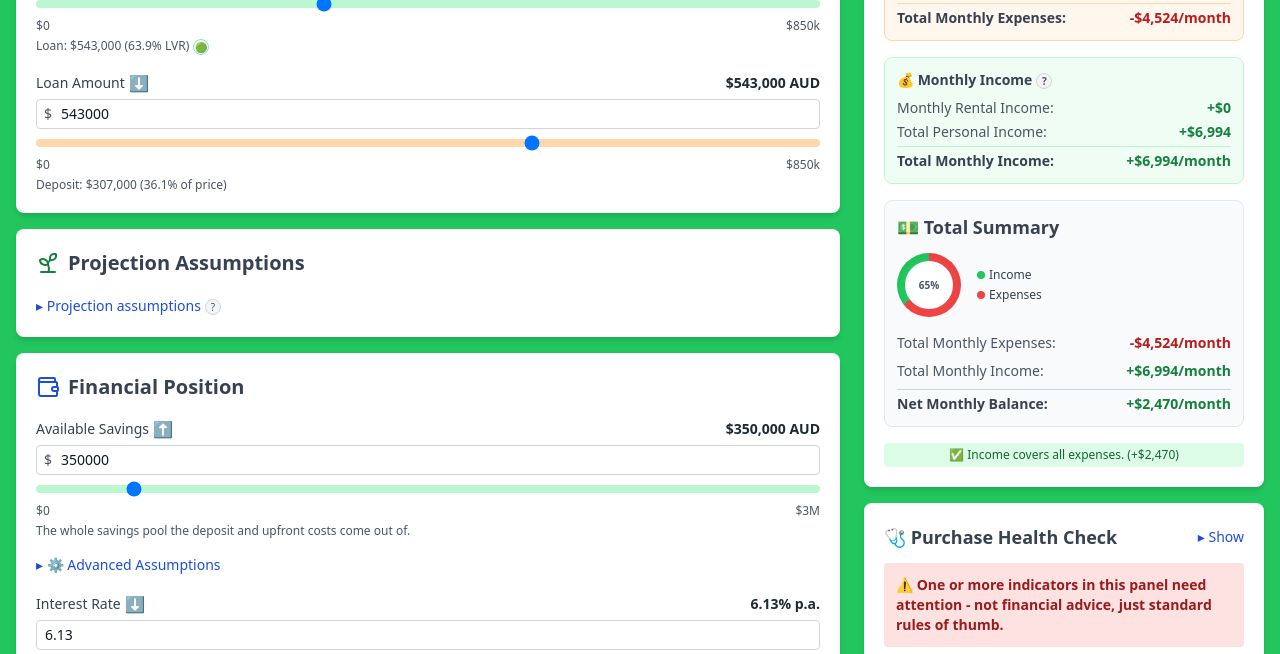
Projection Assumptions card (TODO-141) › labels the projection as a flat baseline only once every simulation-affecting assumption is 0
(page scrolled)
Click the button "▸ Projection assumptions": {"x": 118, "y": 306} [36,296,201,316]
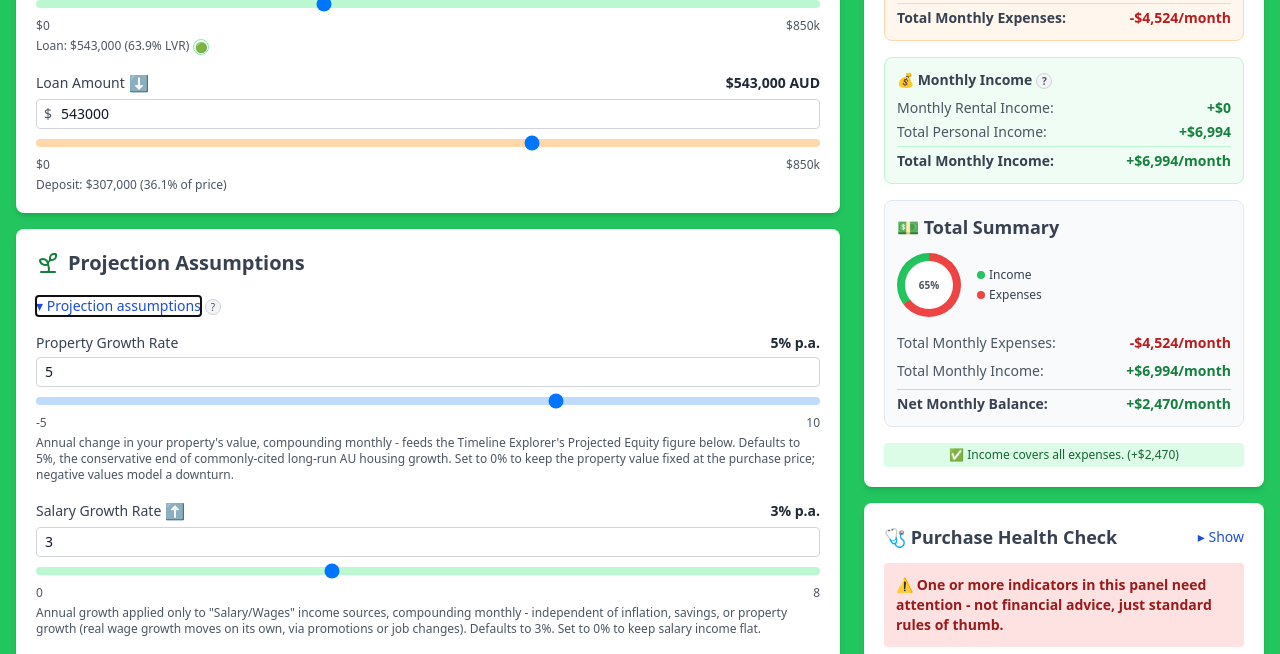
Replace the text in the number field labelled "Salary Growth Rate" with "0": {"x": 428, "y": 542} [36,527,820,557]
(page scrolled)
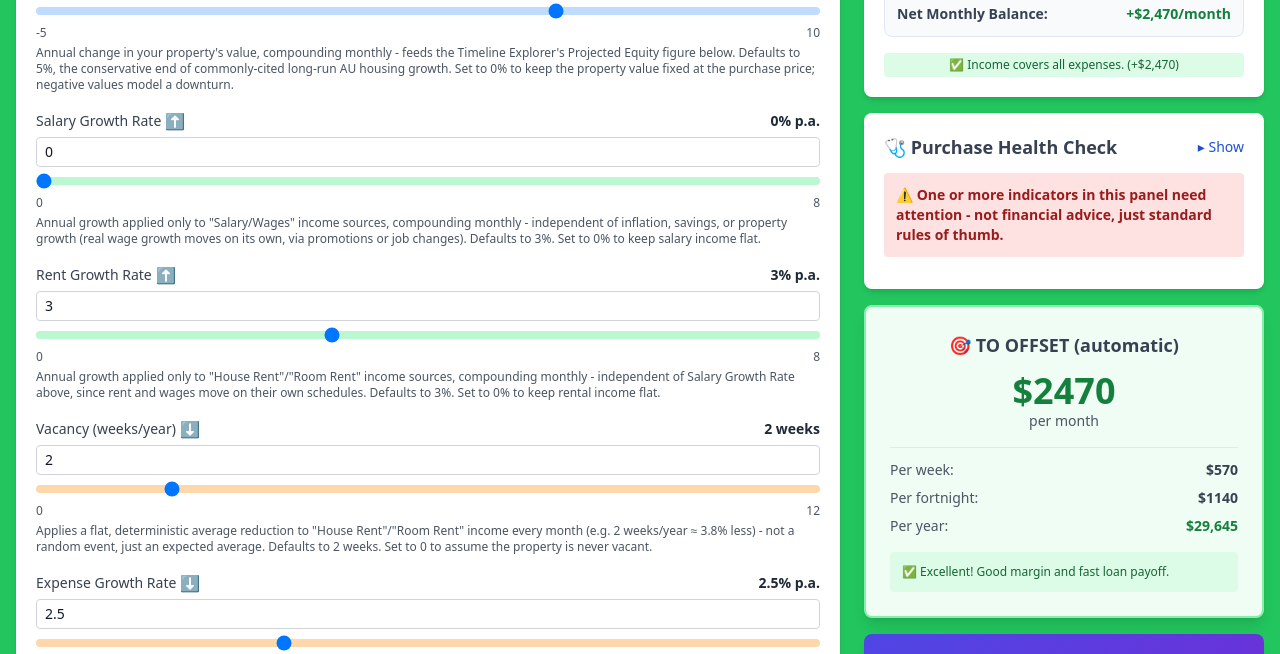
Replace the text in the number field labelled "Rent Growth Rate" with "0": {"x": 428, "y": 306} [36,291,820,321]
Replace the text in the number field labelled "Expense Growth Rate" with "0": {"x": 428, "y": 614} [36,599,820,629]
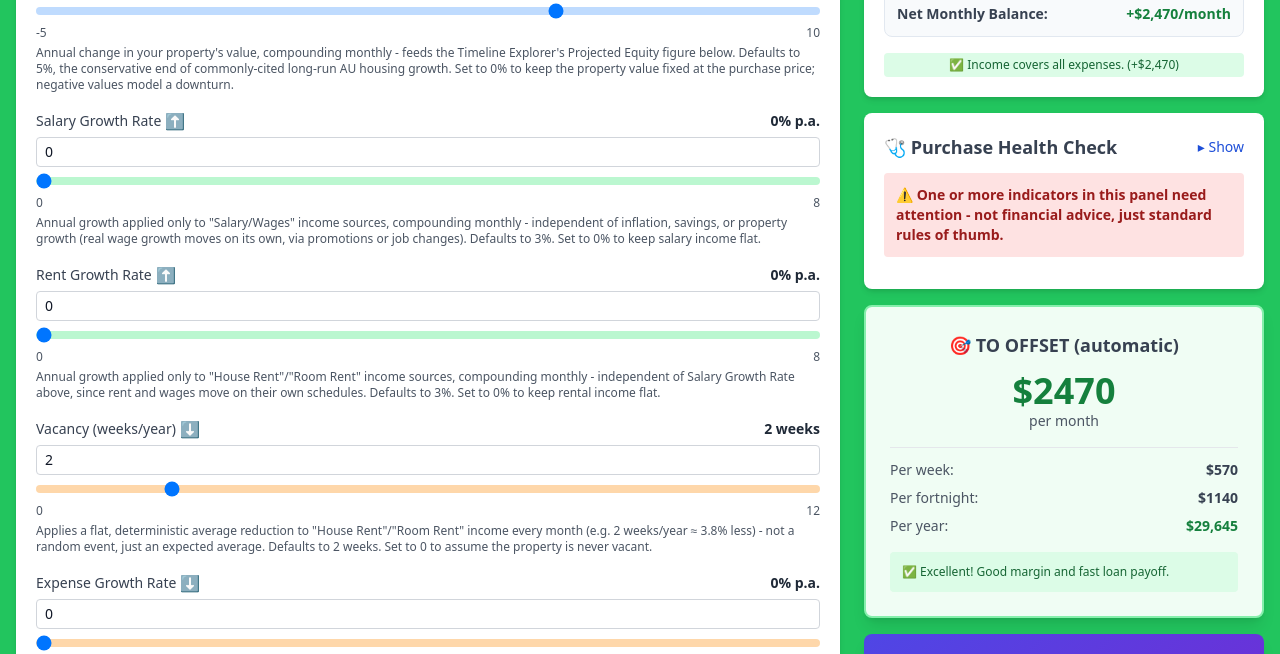
Replace the text in the number field labelled "Vacancy (weeks/year)" with "0": {"x": 428, "y": 460} [36,445,820,475]
(page scrolled)
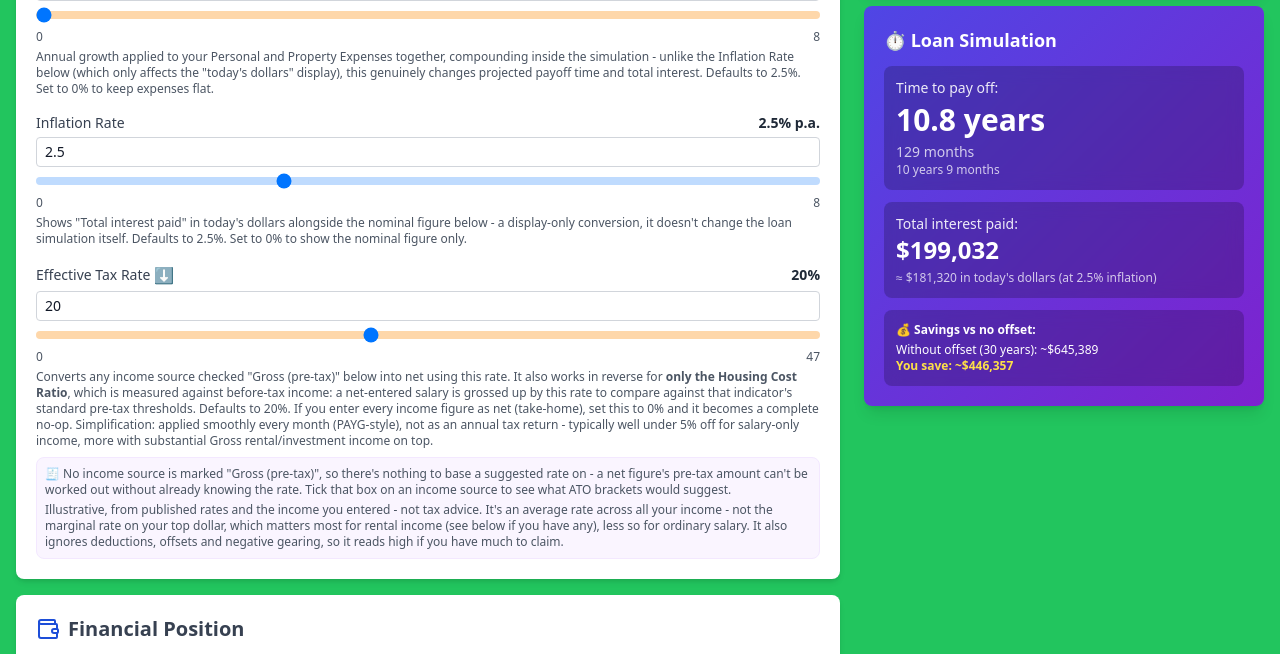
Replace the text in the number field labelled "Effective Tax Rate" with "0": {"x": 428, "y": 306} [36,291,820,321]
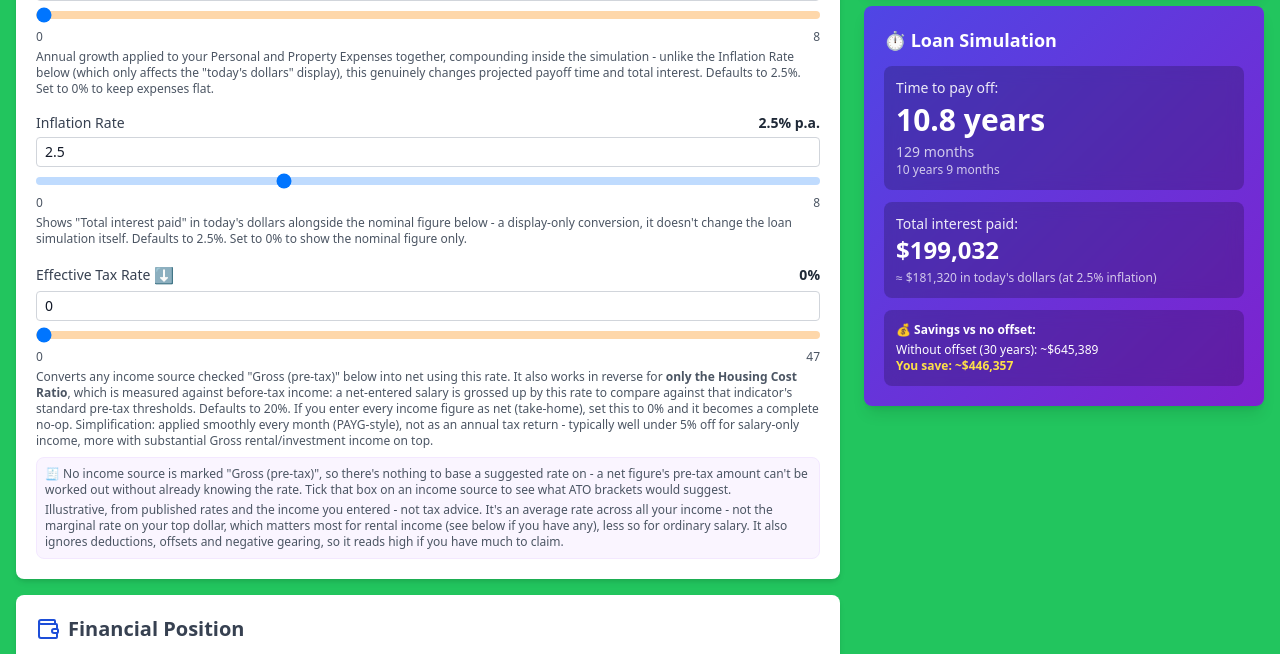
Leave the number field labelled "Effective Tax Rate", box [36,291,820,321]
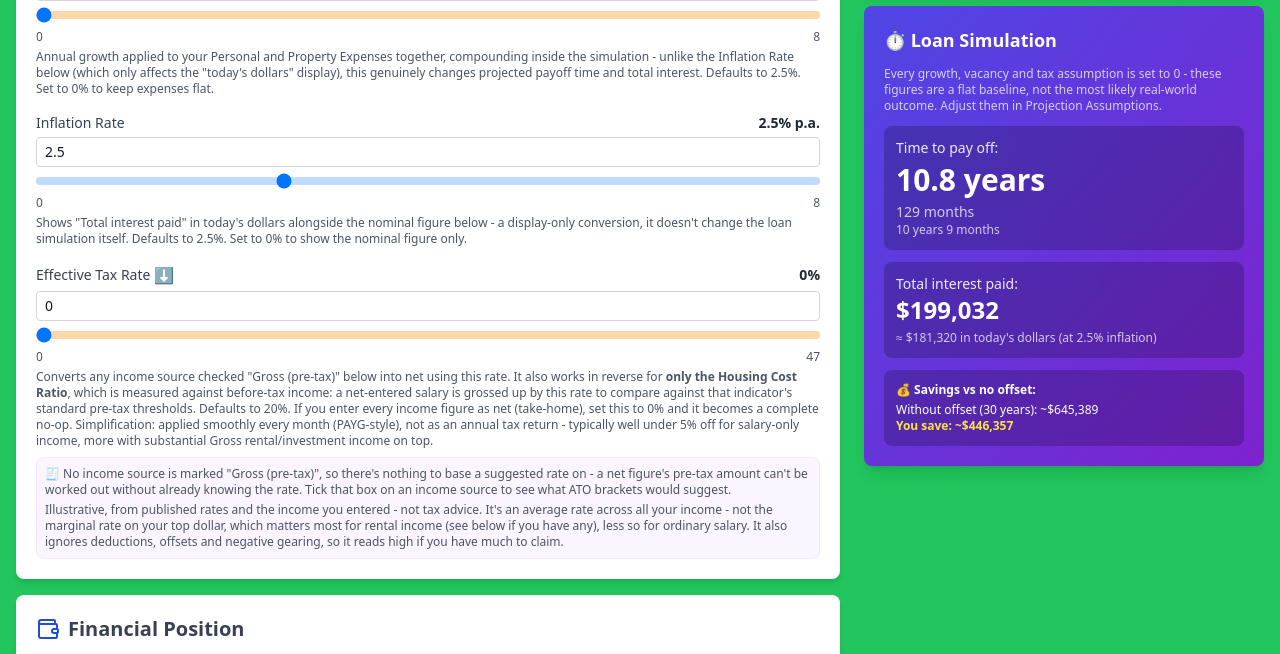
Now the text "these figures are a flat baseline" is shown, box [884,65,1221,114]
